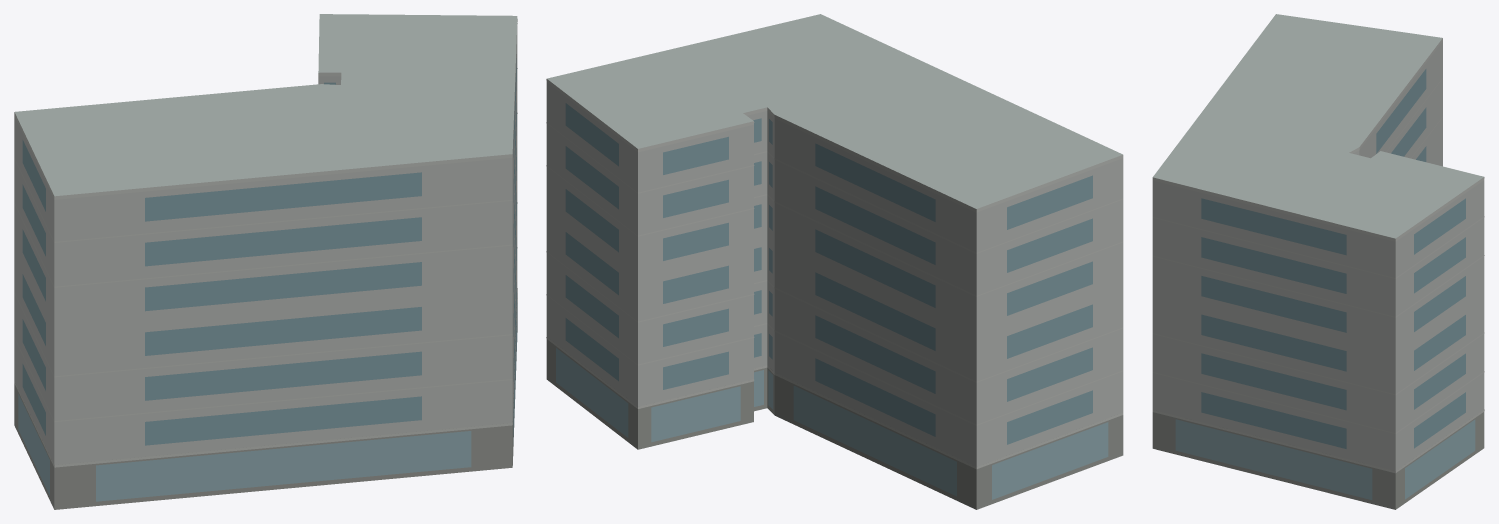
File: survey-upis-32988956.glb
3 renders of one model, left to right at view 1: azimuth 30°, elevation 25°; view 2: azimuth 150°, elevation 25°; view 3: azimuth 270°, elevation 25°, orthographic. The views are drawn at different scales.
Visible parts, largest first — view 1: survey-upis-32988956.tmp; view 2: survey-upis-32988956.tmp; view 3: survey-upis-32988956.tmp.
Boxes of the visible parts, x1,y1,x2,y2 form: survey-upis-32988956.tmp: (14, 14, 517, 509); survey-upis-32988956.tmp: (546, 14, 1123, 509); survey-upis-32988956.tmp: (1152, 14, 1484, 509).
Bounding box in the file's own units: 36.96 × 20.8 × 23.08.
